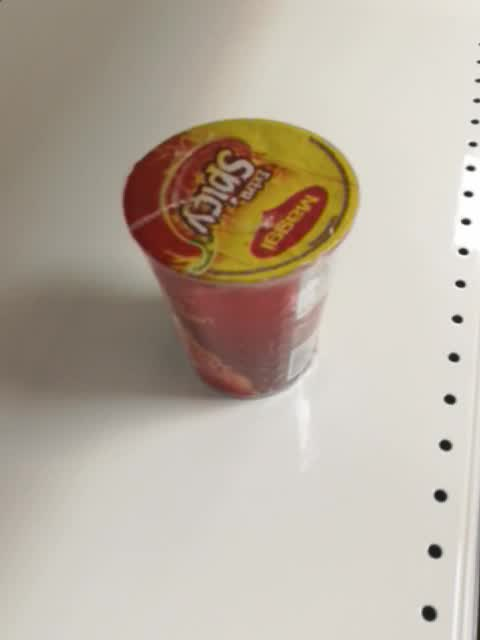maggi: (122, 118, 361, 401)
